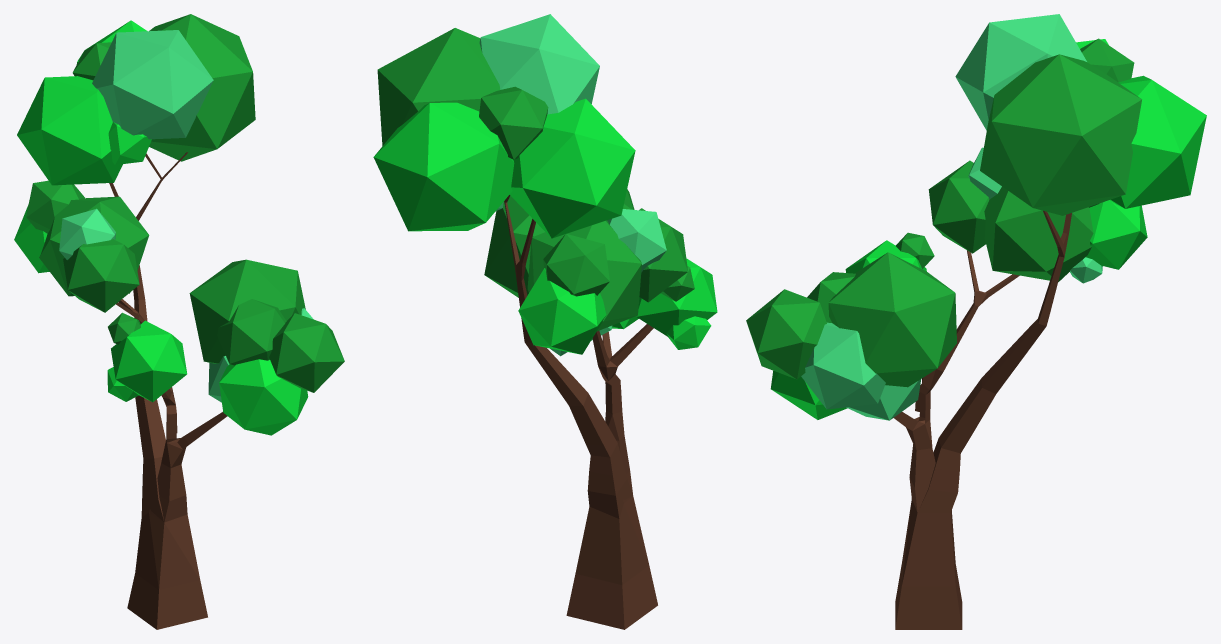
3 renders of one model, left to right at view 1: azimuth 30°, elevation 25°; view 2: azimuth 150°, elevation 25°; view 3: azimuth 270°, elevation 25°, orthographic. The views are drawn at different scales.
Visible parts, largest first — view 1: Plane, Icosphere.019, Icosphere.020, Icosphere.021, Icosphere.005, Icosphere, Icosphere.006, Icosphere.003, Icosphere.009, Icosphere.011, Icosphere.002, Icosphere.013 (+7 smaller); view 2: Plane, Icosphere.018, Icosphere.020, Icosphere.021, Icosphere.019, Icosphere.010, Icosphere.011, Icosphere.022, Icosphere.013, Icosphere.005, Icosphere.006, Icosphere.012 (+3 smaller); view 3: Icosphere.021, Plane, Icosphere.005, Icosphere.018, Icosphere.011, Icosphere.019, Icosphere.003, Icosphere.001, Icosphere.009, Icosphere.010, Icosphere, Icosphere.004 (+5 smaller).
Part boxes in pixels (x1,y1,x2,y2): Plane: (109, 152, 227, 629); Icosphere.019: (92, 30, 213, 139); Icosphere.020: (17, 76, 122, 185); Icosphere.021: (149, 14, 255, 161); Icosphere.005: (189, 259, 305, 363); Icosphere: (219, 359, 308, 435); Icosphere.006: (111, 320, 187, 402); Icosphere.003: (269, 313, 344, 392); Icosphere.009: (63, 239, 139, 312); Icosphere.011: (39, 196, 149, 296); Icosphere.002: (217, 299, 286, 365); Icosphere.013: (26, 180, 84, 233); Plane: (504, 195, 657, 629); Icosphere.018: (373, 102, 514, 231); Icosphere.020: (509, 98, 635, 238); Icosphere.021: (377, 28, 500, 145); Icosphere.019: (479, 14, 599, 114); Icosphere.010: (518, 268, 606, 354); Icosphere.011: (527, 220, 641, 331); Icosphere.022: (479, 86, 548, 159); Icosphere.013: (543, 234, 609, 296); Icosphere.005: (484, 196, 544, 297); Icosphere.006: (636, 258, 717, 337); Icosphere.012: (607, 209, 666, 272); Icosphere.021: (980, 54, 1141, 215); Plane: (894, 211, 1071, 629); Icosphere.005: (828, 252, 956, 387); Icosphere.018: (1110, 75, 1206, 208); Icosphere.011: (984, 186, 1093, 281); Icosphere.019: (955, 14, 1086, 130); Icosphere.003: (746, 289, 826, 379); Icosphere.001: (801, 322, 885, 409); Icosphere.009: (928, 160, 989, 253); Icosphere.010: (1085, 200, 1147, 269); Icosphere: (770, 371, 847, 419); Icosphere.004: (846, 379, 921, 420).
Bounding box in the file's own units: 3833 × 8867 × 6084.
